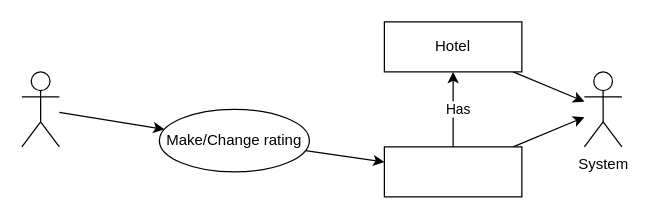
The diagram is 650 pixels wide and 219 high, and some of its shapes have lost their labels. The shapes that lost their labels are listed below. From the top down, each one's centre as x and y in pixels, then its label:
the point at 40,109: Cleint
the point at 452,171: Rating
